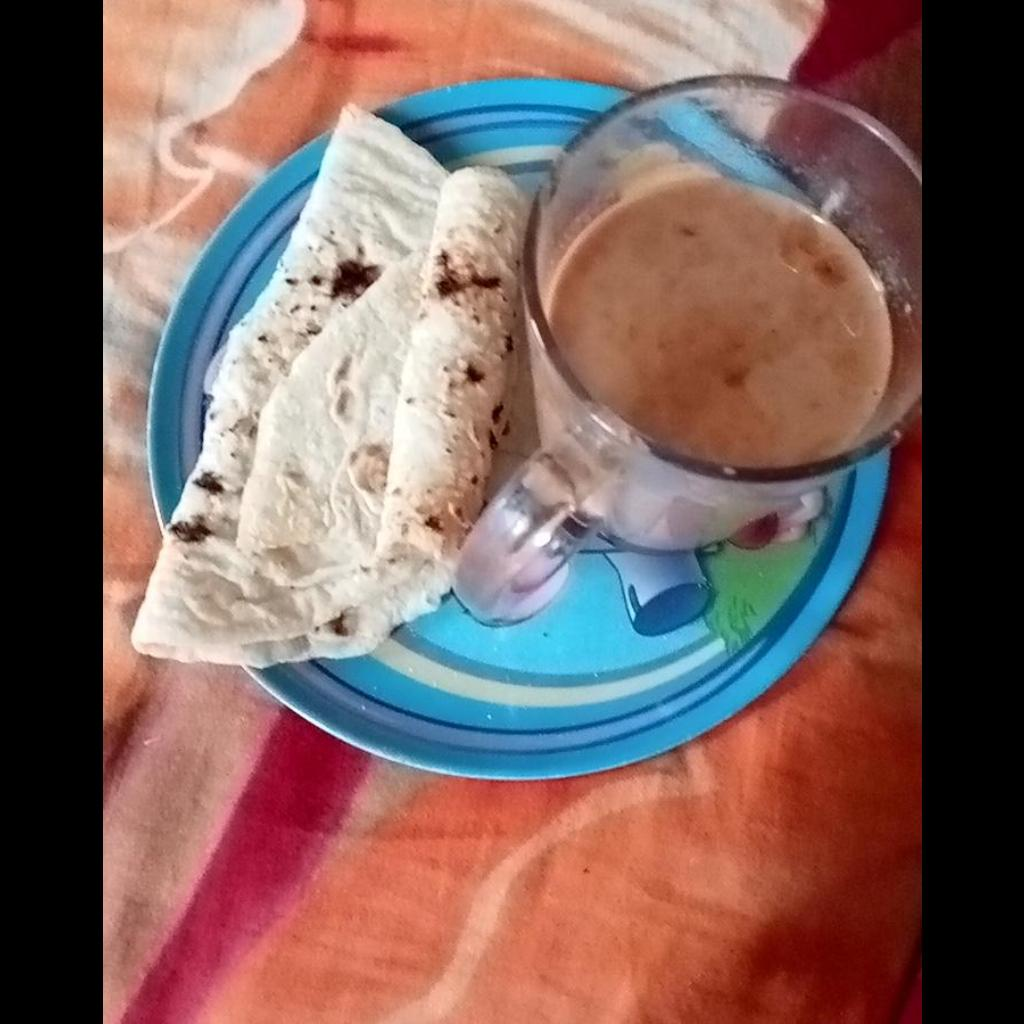cha: (552, 184, 893, 463)
ruti: (125, 100, 529, 666)
